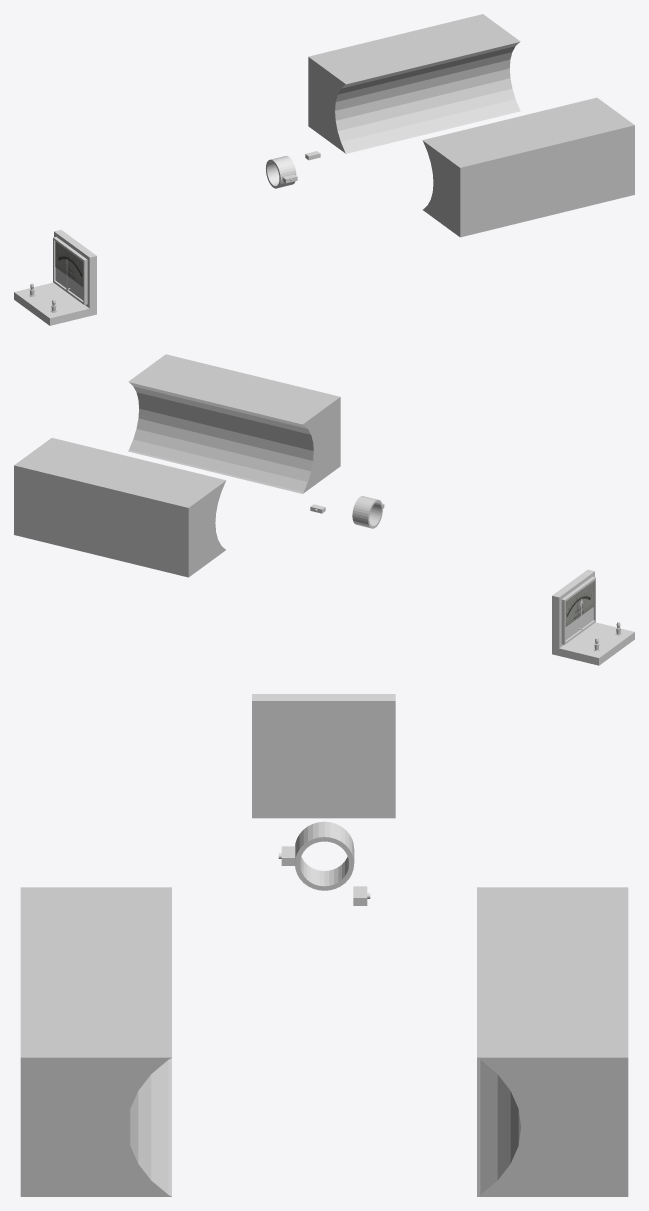
File: AC_gen no coil.gltf
3 views of the same model, one above another, from view 1: azimuth 30°, elevation 25°; view 2: azimuth 150°, elevation 25°; view 3: azimuth 270°, elevation 25° (orthographic). The views are drawn at different scales.
Parts seen in each view (by area): view 1: Cube.003, Cube, Cube.025, Cube.026, Cube.027, Cylinder.001; view 2: Cube, Cube.003, Cube.025, Cube.026, Cylinder.001, Cube.027; view 3: Cube, Cube.003, Cube.026, Cylinder.001, Cube.025.
Boxes of the visible parts, box(x1,y1,x2,y2) form: Cube.003: box(308, 14, 520, 153); Cube: box(422, 97, 634, 237); Cube.025: box(14, 282, 96, 325); Cube.026: box(54, 229, 96, 315); Cube.027: box(55, 241, 83, 286); Cylinder.001: box(266, 156, 296, 188); Cube: box(128, 354, 340, 493); Cube.003: box(14, 438, 226, 577); Cube.025: box(553, 622, 634, 665); Cube.026: box(552, 569, 594, 655); Cylinder.001: box(352, 496, 382, 528); Cube.027: box(565, 581, 593, 626); Cube: box(20, 887, 171, 1196); Cube.003: box(477, 887, 628, 1196); Cube.026: box(252, 694, 395, 802); Cylinder.001: box(294, 821, 354, 890); Cube.025: box(252, 803, 395, 818).
Bounding box in the file's own units: 17.14 × 3.56 × 8.56.
2 materials, 1 textured.
